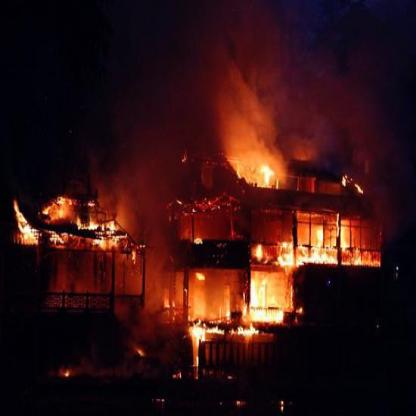fire: (164, 262, 302, 336), (3, 188, 139, 250), (249, 208, 382, 262), (225, 126, 285, 187)
